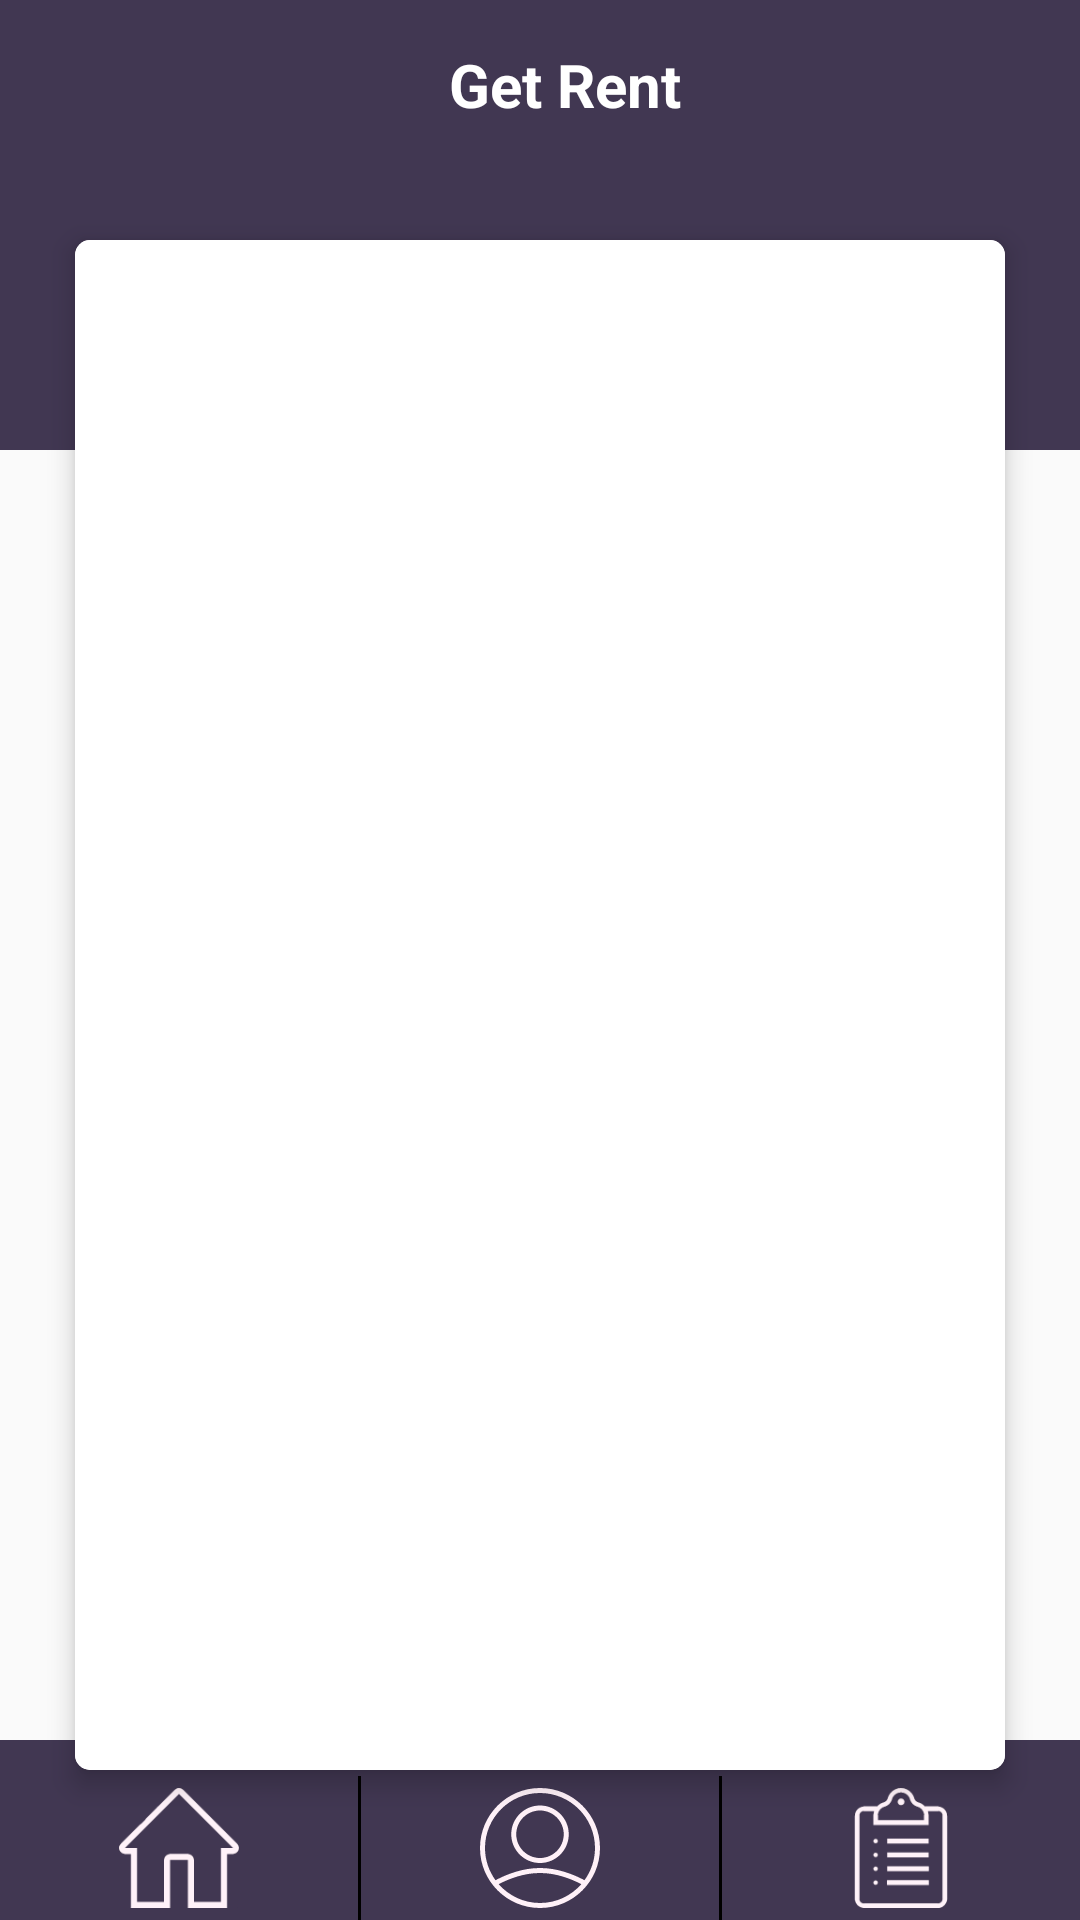

Where icons sit on this 1080w x 1920h app screen, as [x1,y1,x2,y2]:
home: [119,1788,239,1908]
post: [854,1788,948,1908]
